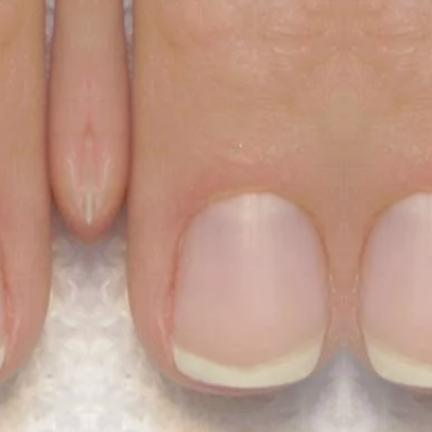Nail: (172, 192, 328, 388), (359, 192, 432, 388), (0, 256, 4, 367)
